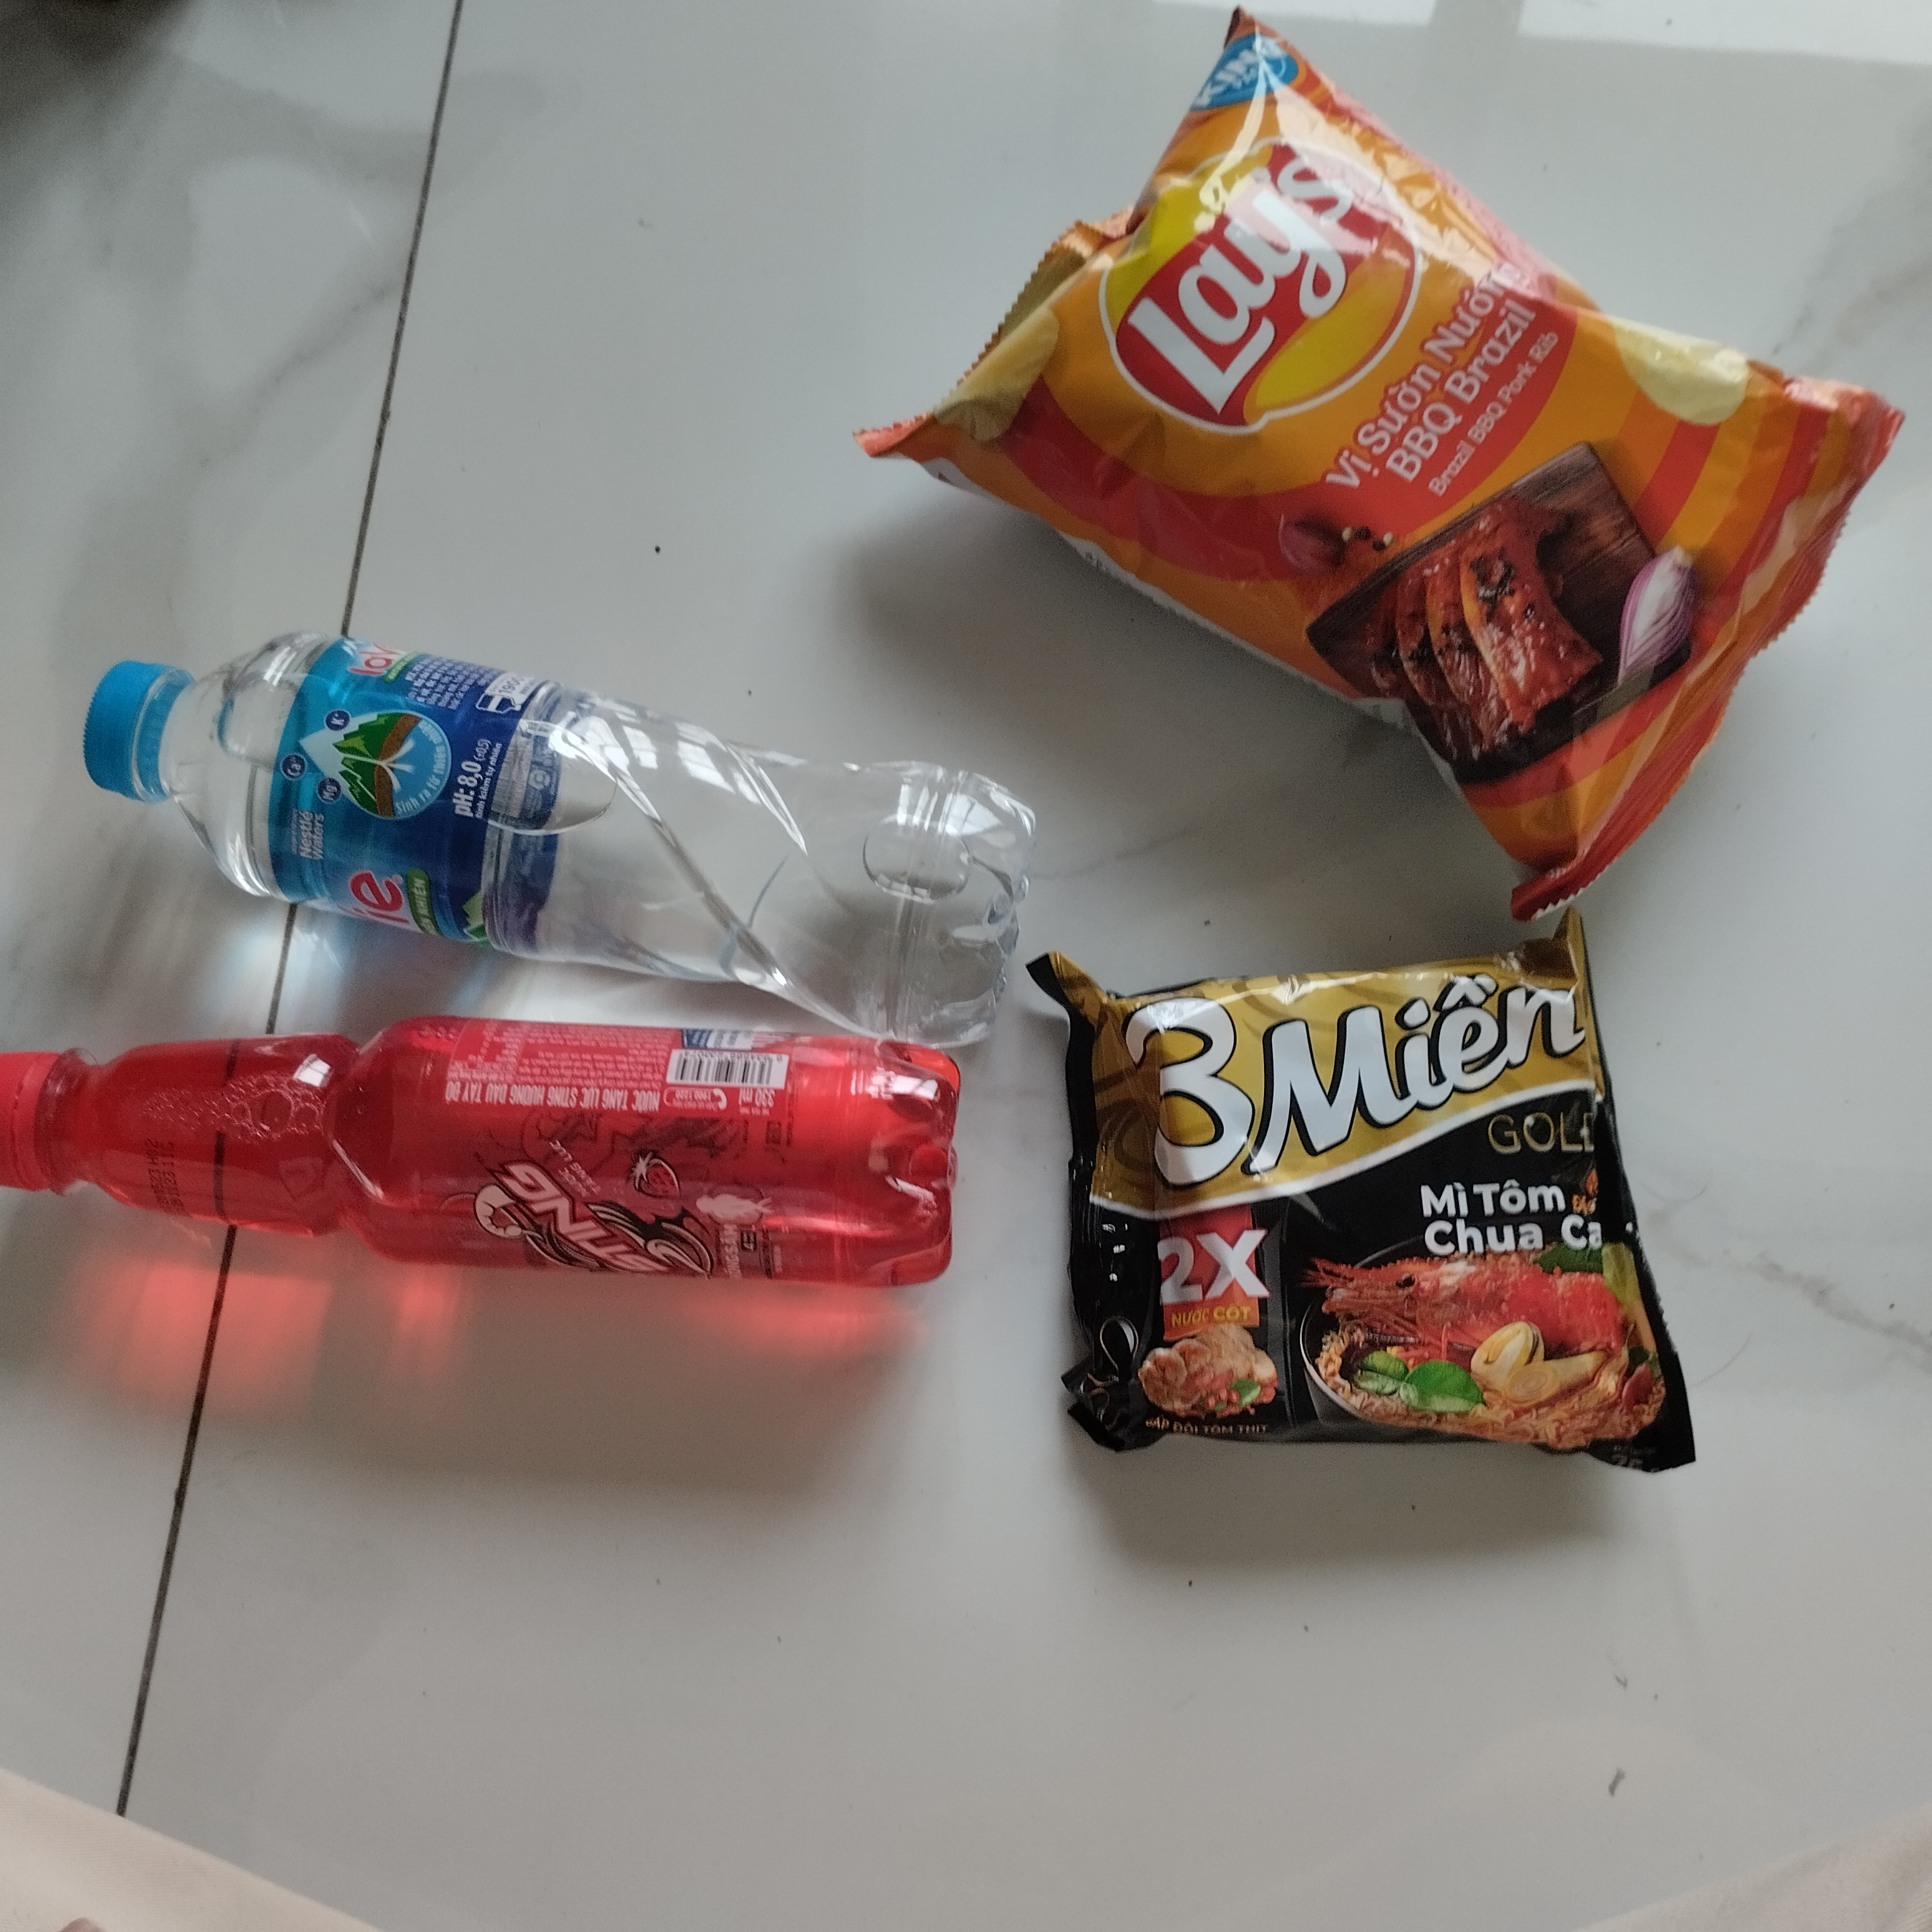3mien: (1014, 931, 1727, 1490)
Lavie: (76, 628, 1040, 1065)
Lays: (828, 11, 1909, 920)
Sting: (7, 1017, 962, 1295)
